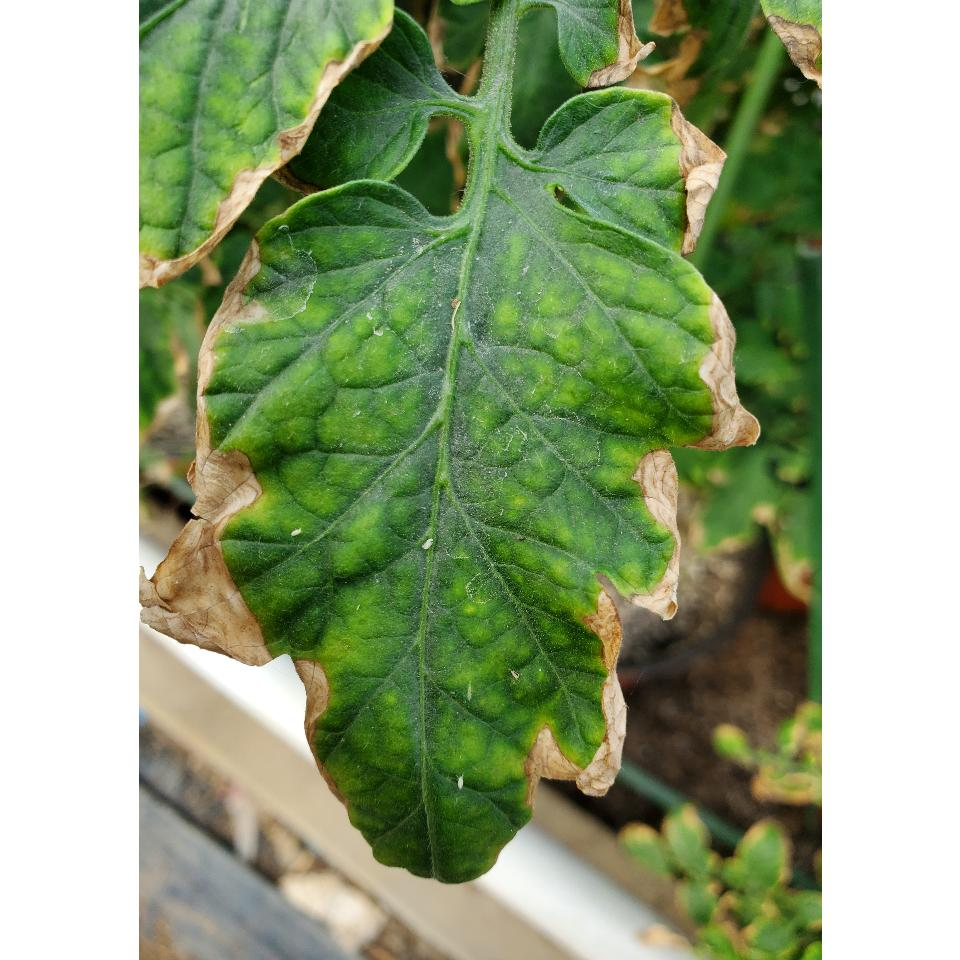tomato_bacterial_blight: (486, 84, 762, 805), (138, 176, 364, 772), (138, 2, 398, 322)
